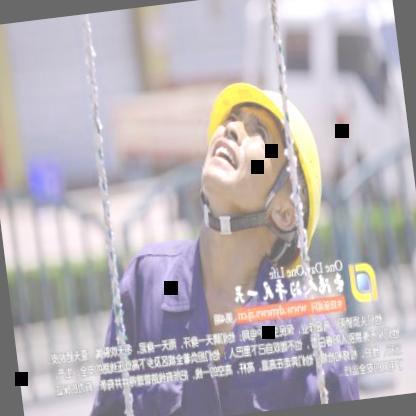helmet: (180, 56, 320, 248)
